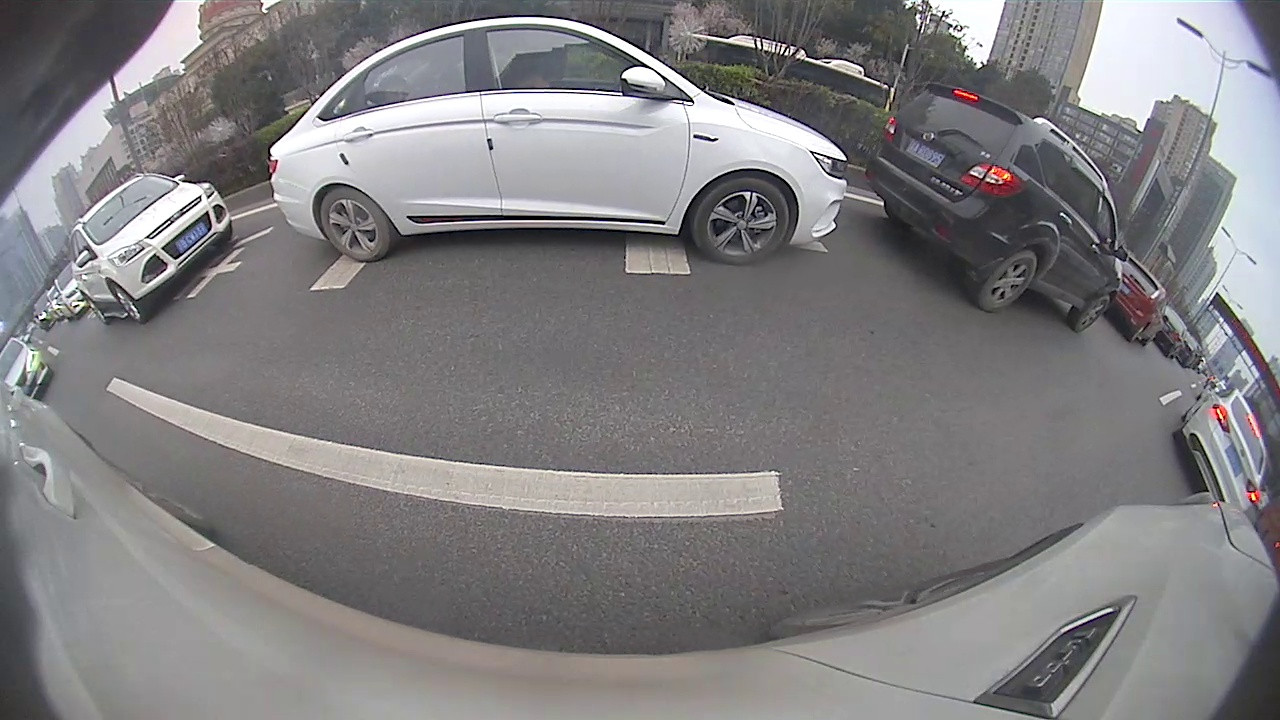car: (266, 15, 848, 266), (863, 80, 1124, 334), (65, 171, 234, 328), (1172, 387, 1271, 514), (1104, 252, 1169, 347), (0, 337, 57, 398)
front: (689, 174, 792, 266), (1070, 291, 1111, 333), (110, 280, 150, 323)
rear: (319, 187, 392, 263), (974, 247, 1039, 313), (82, 291, 110, 324)
